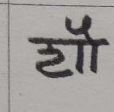au_matra: (73, 16, 106, 71)
